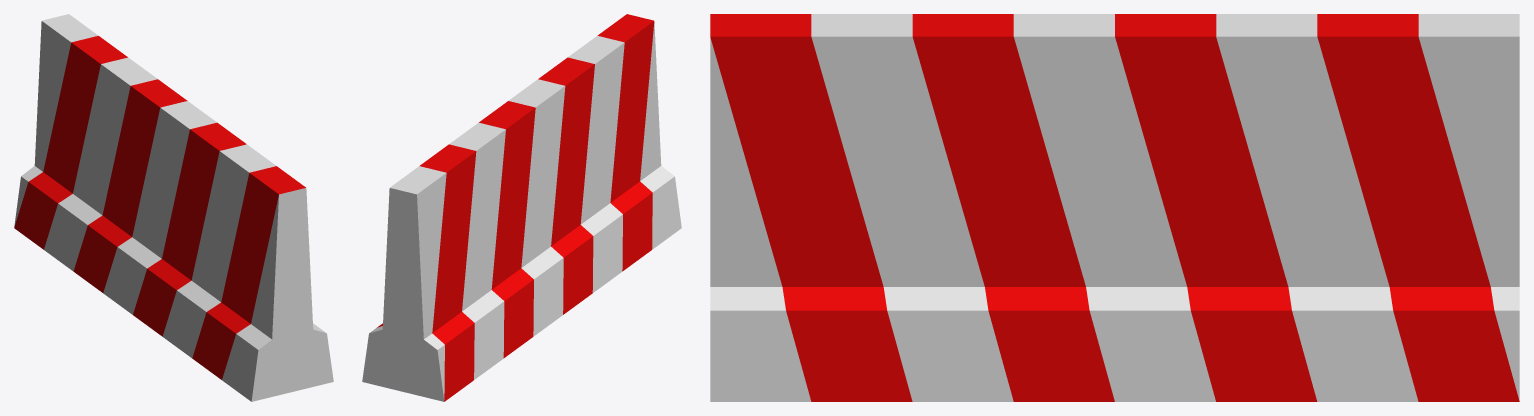
File: ETC0510012.fbx
3 views of the same model, side by side, from view 1: azimuth 30°, elevation 25°; view 2: azimuth 150°, elevation 25°; view 3: azimuth 270°, elevation 25° (orthographic). The views are drawn at different scales.
Visible parts, largest first — view 1: smETC0510012; view 2: smETC0510012; view 3: smETC0510012.
Part boxes in pixels (x1,y1,x2,y2): smETC0510012: (14, 14, 333, 401); smETC0510012: (362, 14, 681, 401); smETC0510012: (710, 14, 1519, 401).
Size of the model in its own units: 72 by 168 by 360.
Materials: 1 (1 with a texture image).
